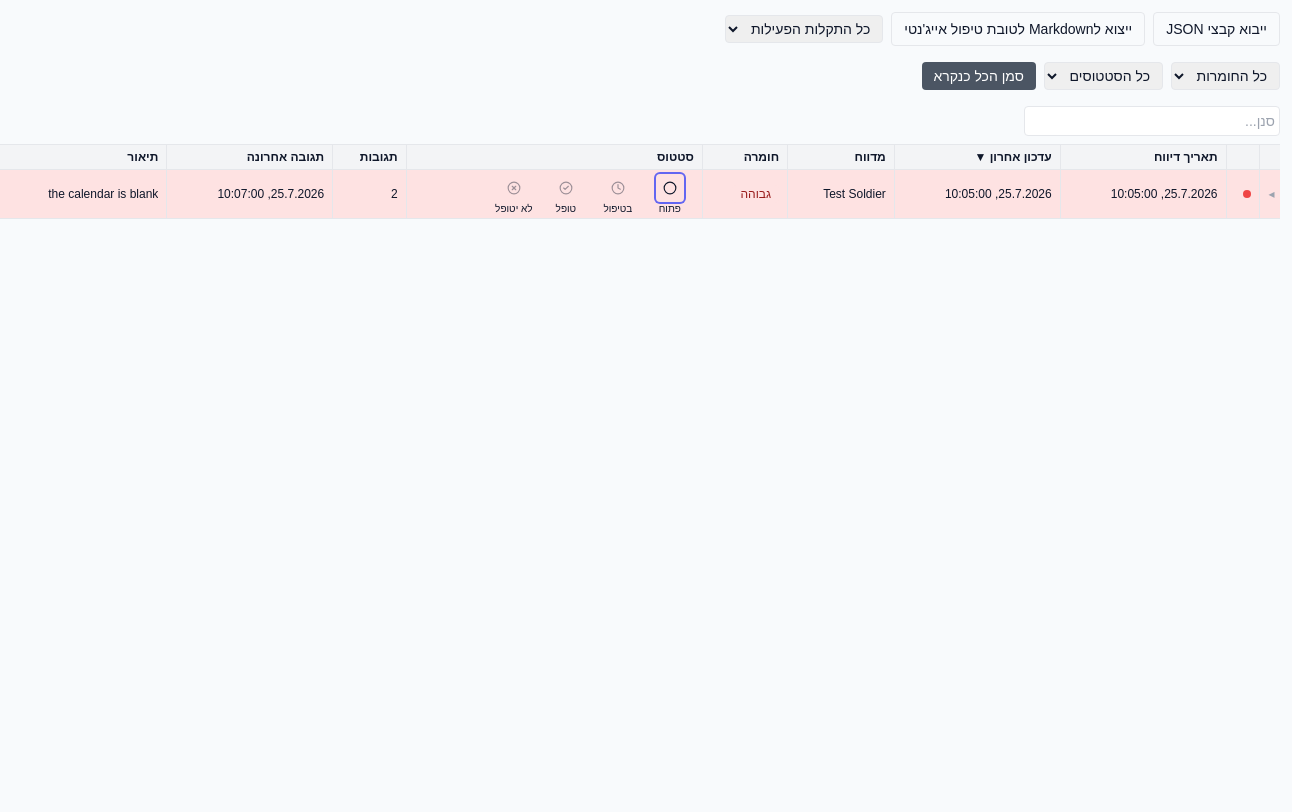
Test: BugReportsContent › shows the route and user snapshot fields when a row is expanded
The width and height of the screenshot is (1292, 812).
Expected: the row with test id "bug-report-row-r1" is shown, x1=0 y1=170 x2=1280 y2=218
Step 1. Click the button named "הרחב" → [1272, 194], box x1=1268 y1=186 x2=1274 y2=202
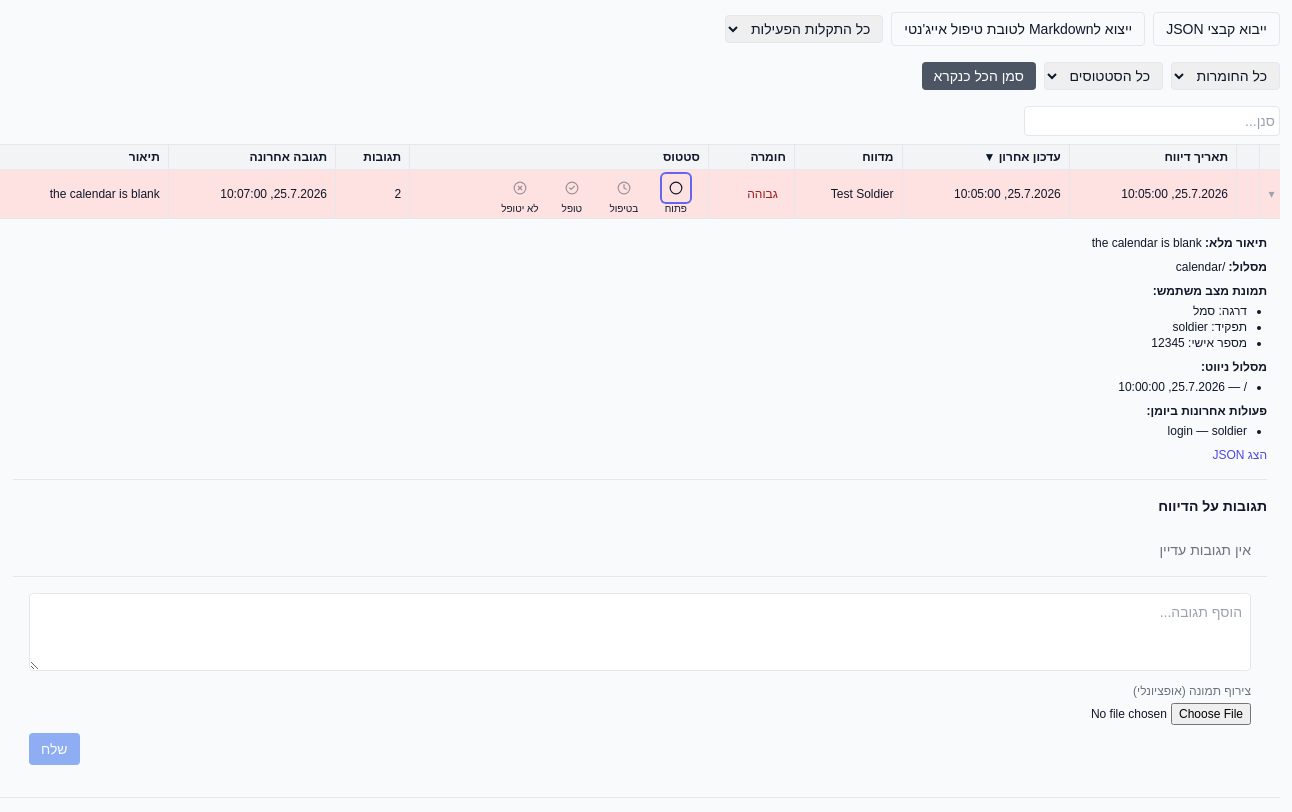
Expected: the text "/calendar" is shown, x1=1176 y1=260 x2=1225 y2=274
Expected: the list item "דרגה: סמל" is shown, x1=1193 y1=304 x2=1247 y2=318
Expected: the list item "מספר אישי: 12345" is shown, x1=1151 y1=336 x2=1247 y2=350
